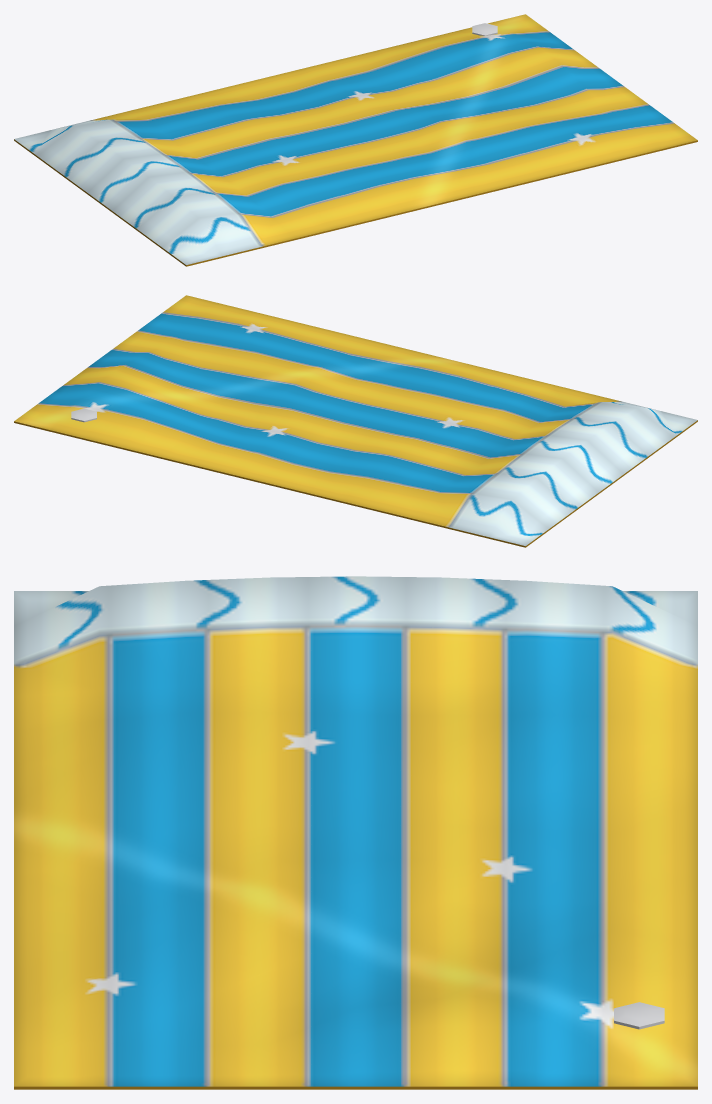
The model's file is pool_air_mattress_deflated_lod1.glb.
3 renders of one model, top to bottom at view 1: azimuth 30°, elevation 25°; view 2: azimuth 150°, elevation 25°; view 3: azimuth 270°, elevation 25°, orthographic. The views are drawn at different scales.
Parts seen in each view (by area): view 1: pool_air_mattress_deflated_LOD1; view 2: pool_air_mattress_deflated_LOD1; view 3: pool_air_mattress_deflated_LOD1.
Part boxes in pixels (bbox=[...]): pool_air_mattress_deflated_LOD1: bbox=[14, 14, 697, 266]; pool_air_mattress_deflated_LOD1: bbox=[14, 295, 697, 547]; pool_air_mattress_deflated_LOD1: bbox=[14, 576, 697, 1089].
Size of the model in its own units: 12 by 0.5998 by 7.
Materials: 1 (1 with a texture image).
